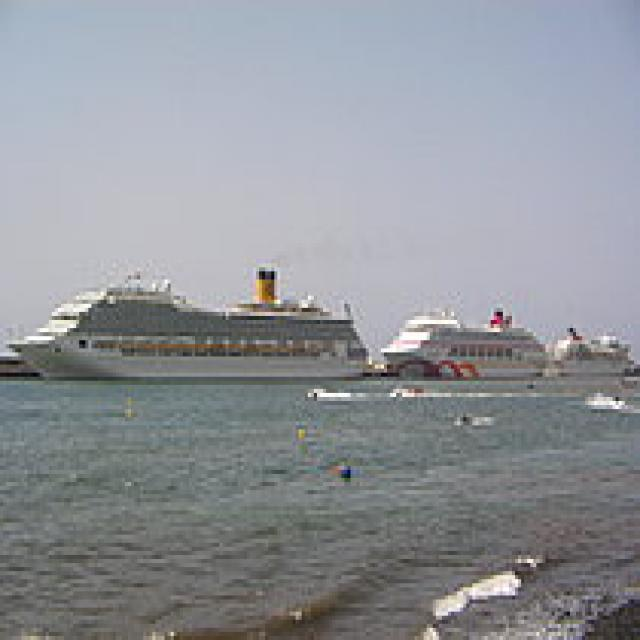Ship: (1, 257, 379, 390), (376, 301, 556, 394)
